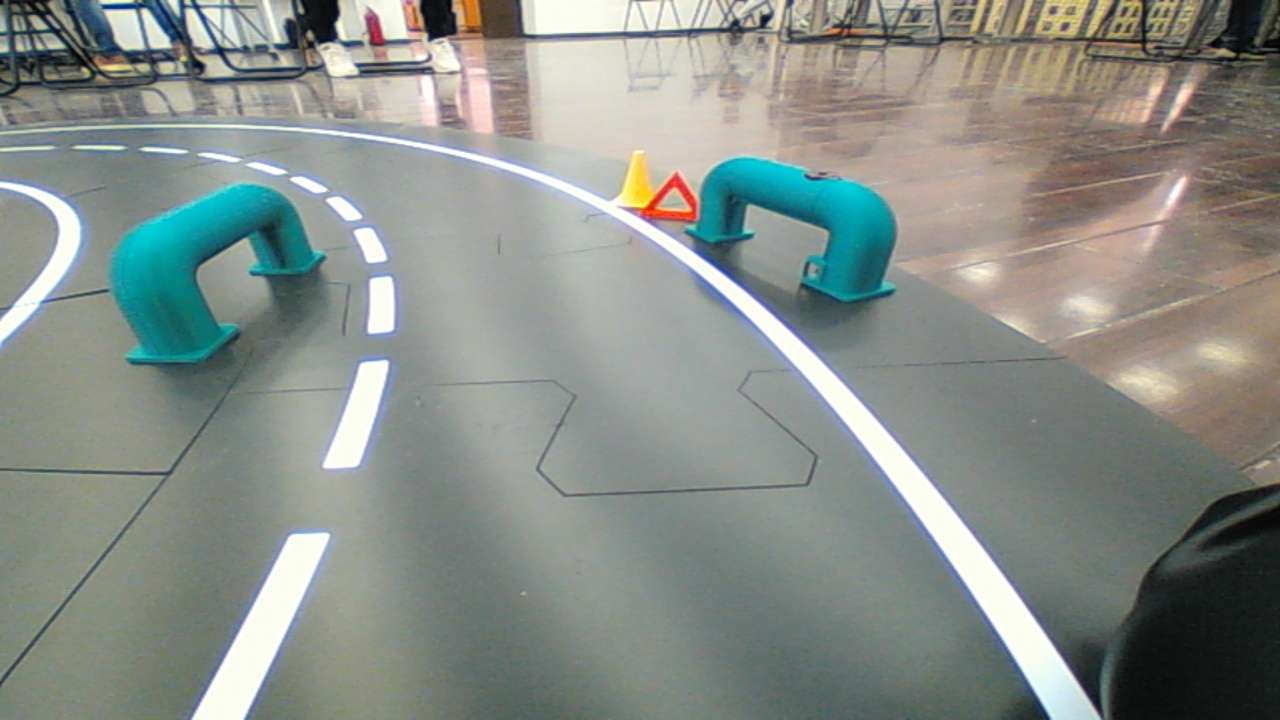No entry: (104, 153, 335, 374)
Parking: (602, 138, 676, 215), (640, 167, 707, 229)
Pedestrian crossing: (673, 136, 914, 319)
